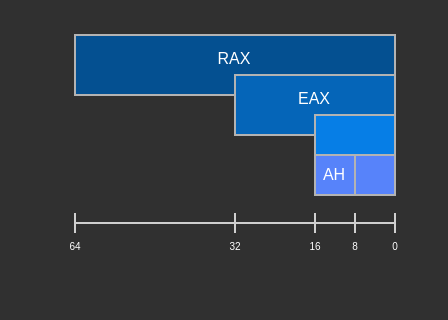
Some shapes in this 448 by 320 pixel diagram are drawn without their labels. The centre of each missing label's shape, as x and y in pixels:
AL: the point at 374,174
AX: the point at 354,134
